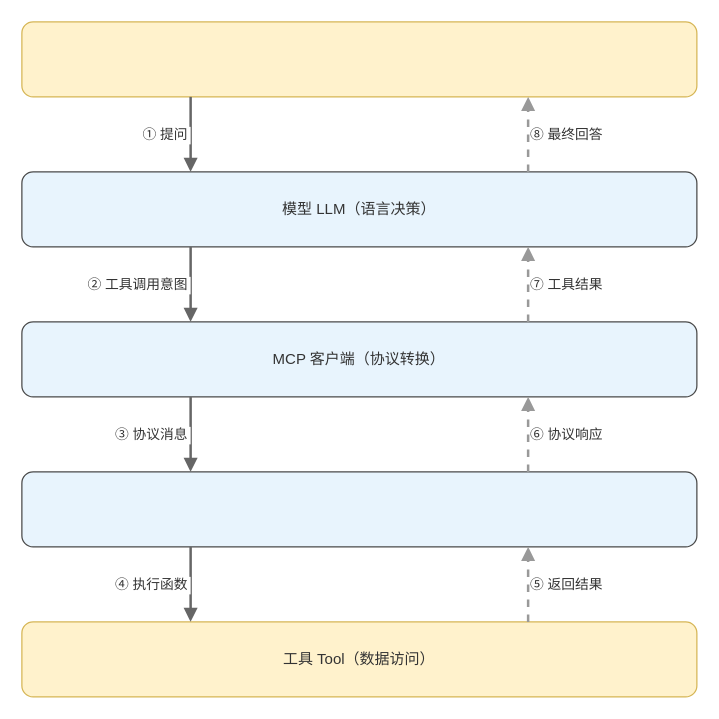
Some shapes in this 719 by 719 pixel diagram are drawn without their labels. The box of each missing label's shape, as (x1, y1, x2, y2) in pixels:
MCP Server（工具路由）: (21, 471, 697, 547)
用户: (21, 21, 697, 97)
